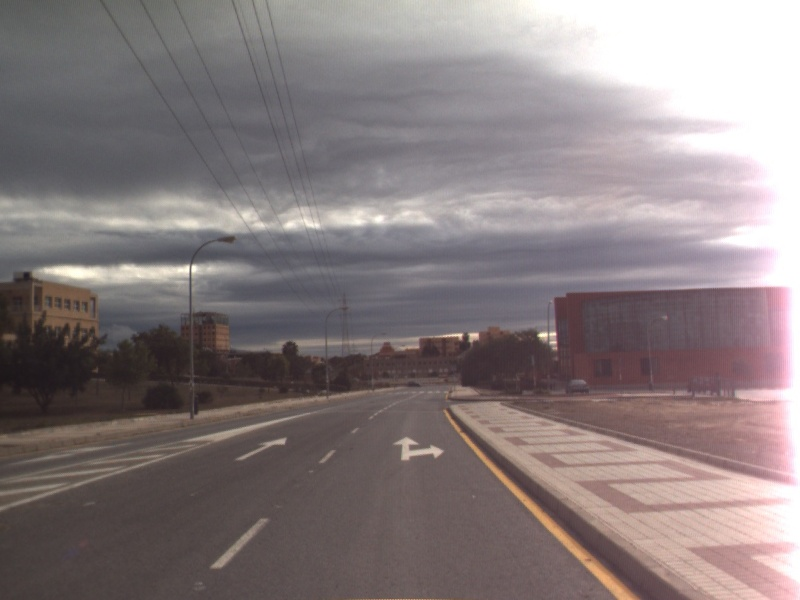STRAIGHT: (233, 435, 290, 463)
STRAIGHT_RIGHT: (391, 435, 447, 462)
